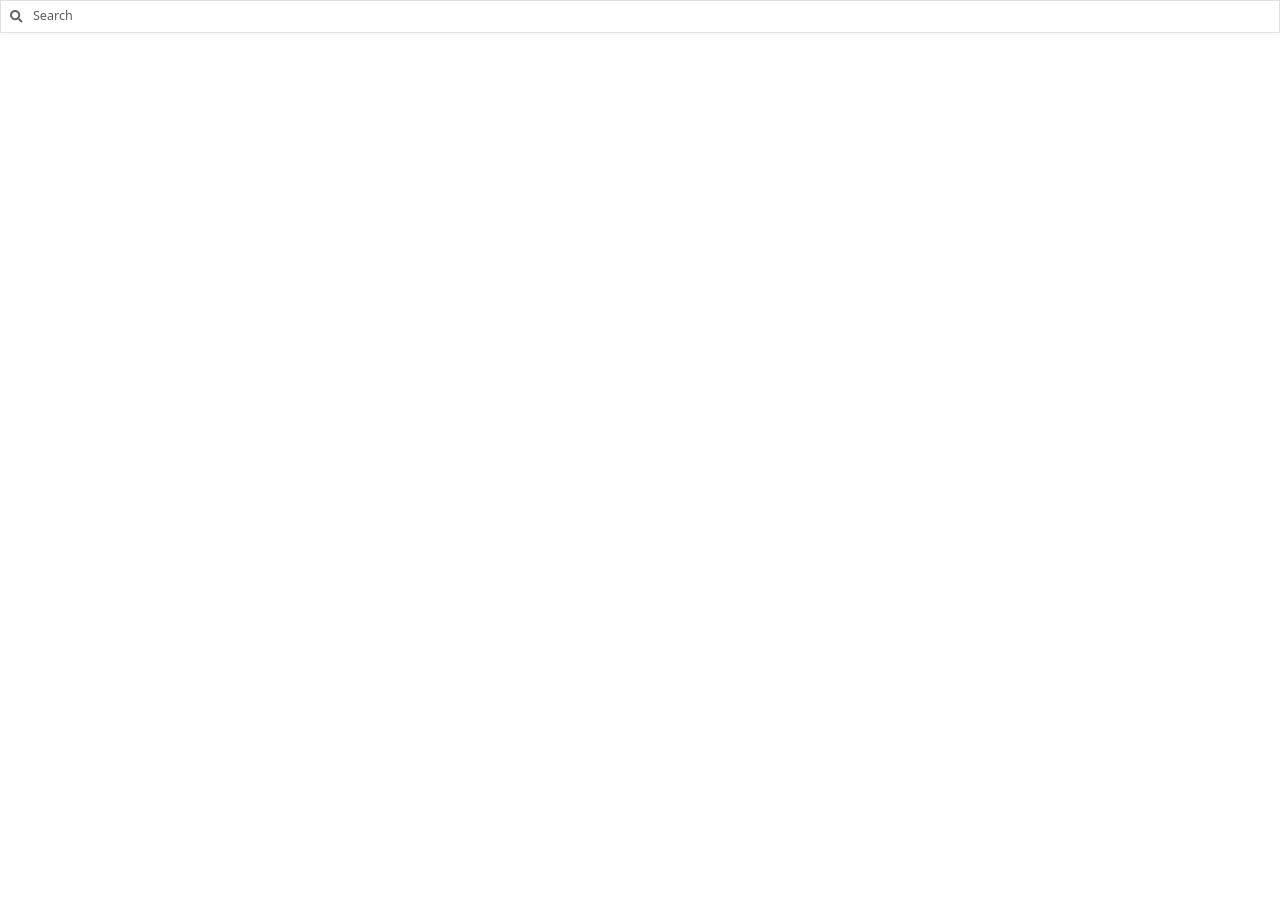
Test case: aborts superseded catalogue requests and ignores their late results
Type "rome" into the search field named "Search profiles, clubs, events, and sources" at (655, 16), box [32,1,1279,32]
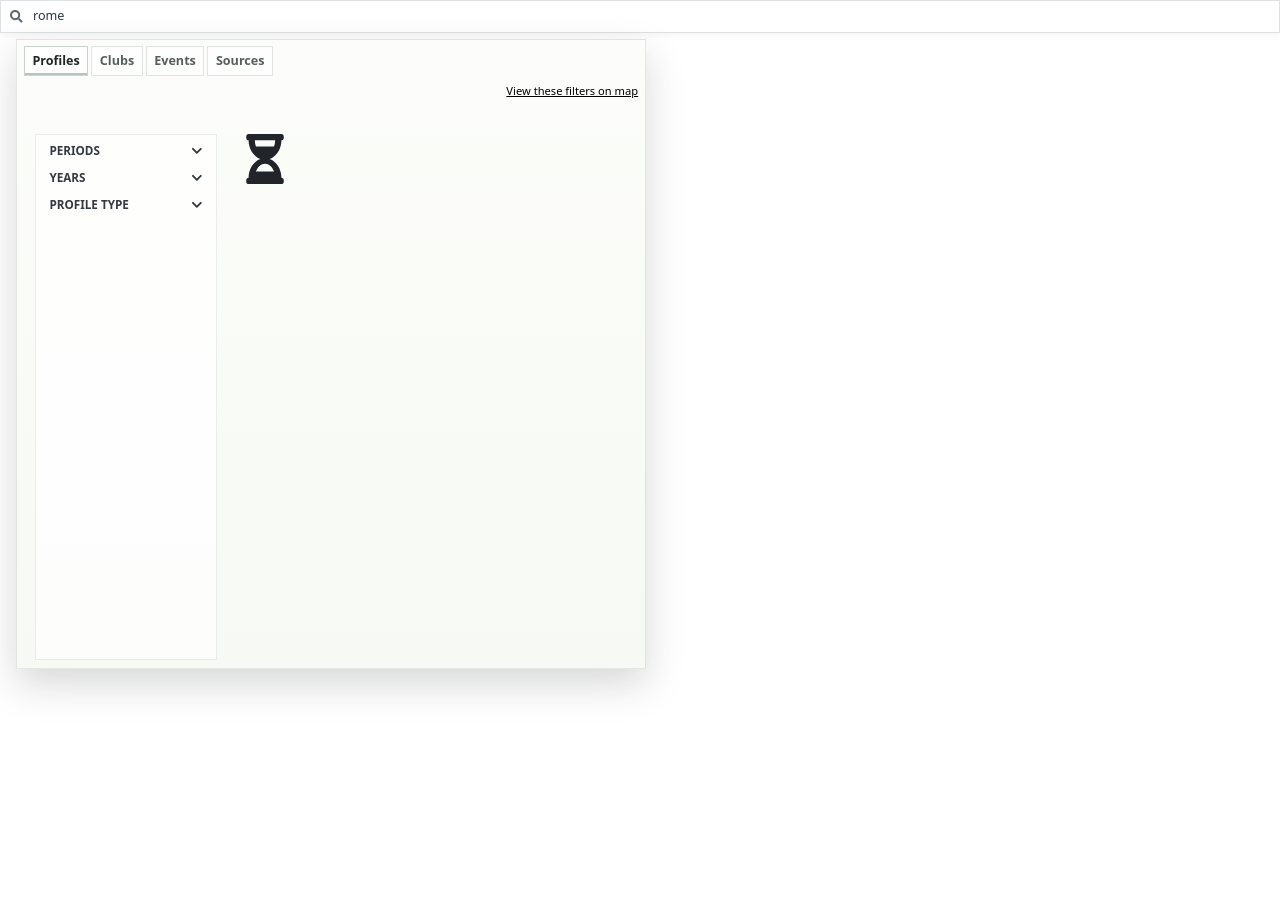
Replace the text in the search field named "Search profiles, clubs, events, and sources" with "athens" at (655, 16), box [32,1,1279,32]
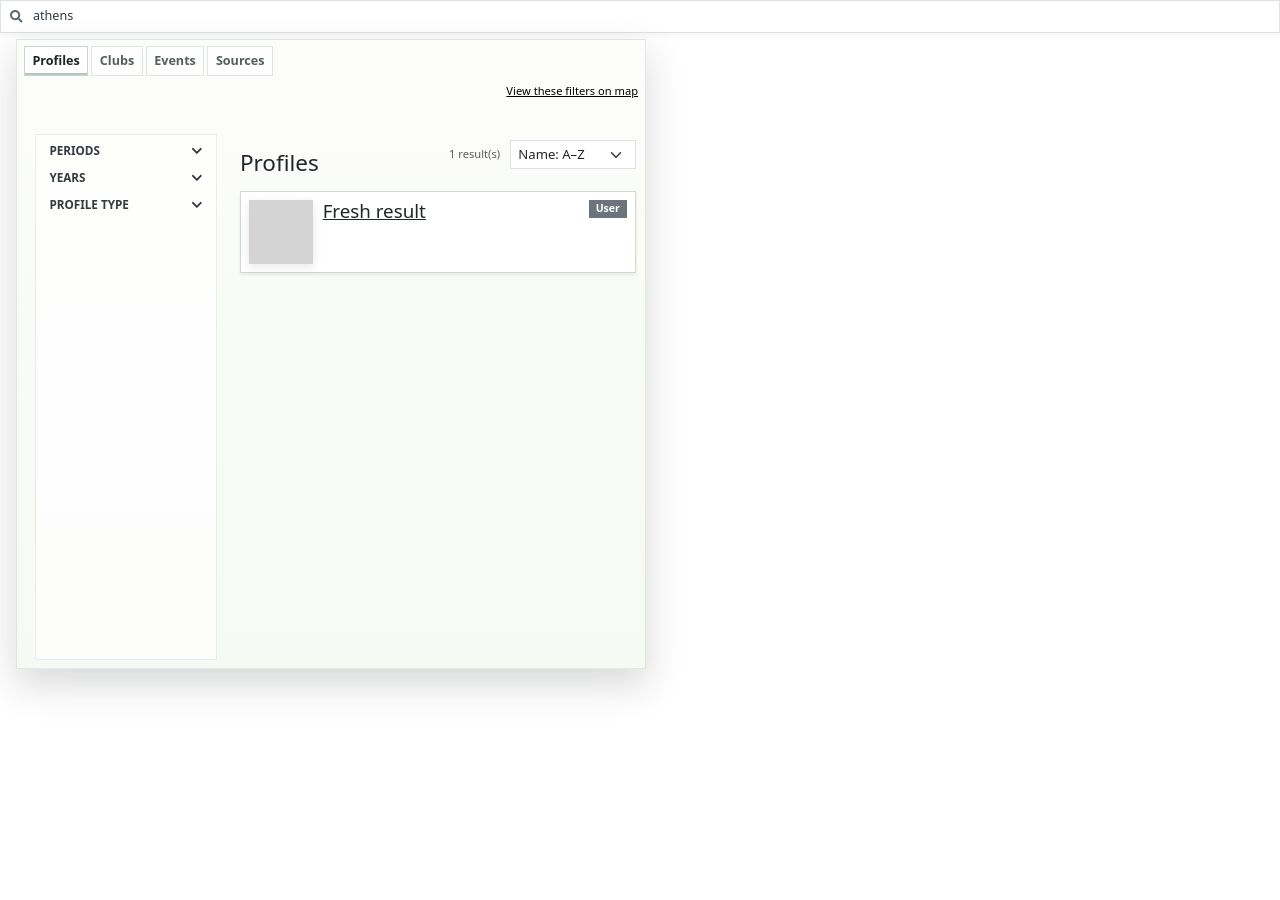
Expected: the link "Fresh result" is shown, [323,198,426,223]
